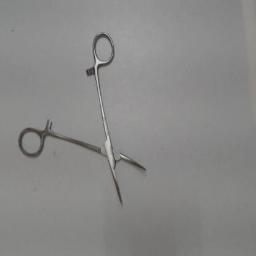Crile Artery Forceps: (16, 28, 150, 208)
